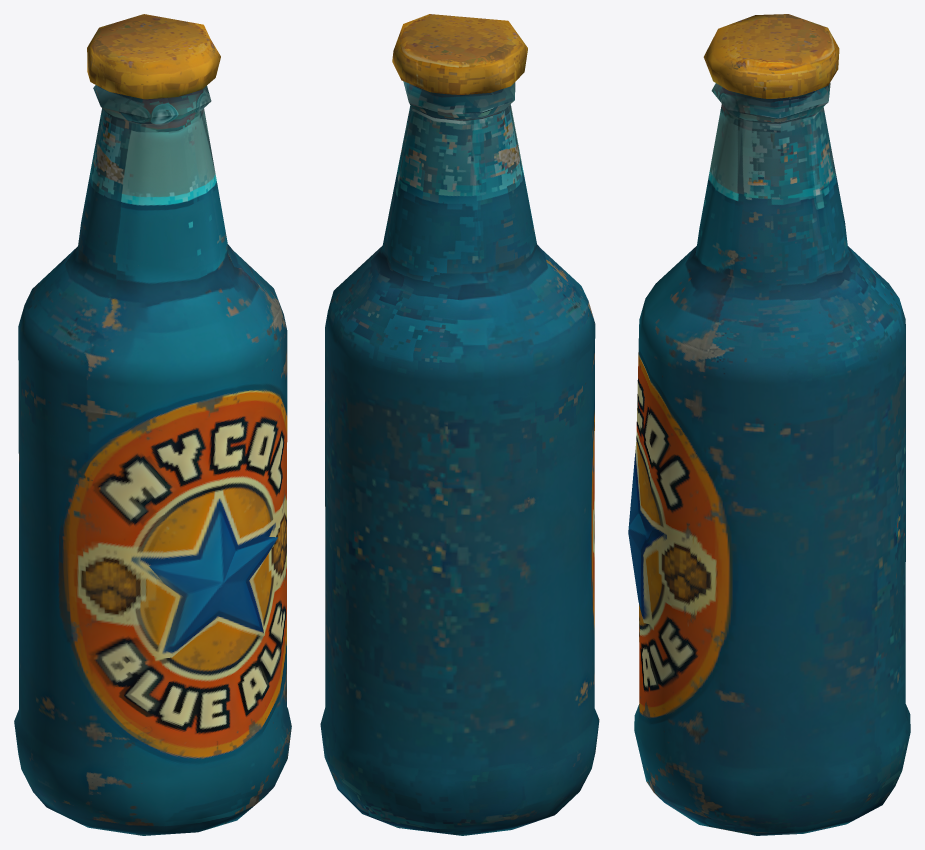
Rendered from bottle.glb.
3 views of the same model, side by side, from view 1: azimuth 30°, elevation 25°; view 2: azimuth 150°, elevation 25°; view 3: azimuth 270°, elevation 25° (orthographic).
Parts seen in each view (by area): view 1: tripo_node_9ed61c46-708d-489b-a52f-a5d73704679f; view 2: tripo_node_9ed61c46-708d-489b-a52f-a5d73704679f; view 3: tripo_node_9ed61c46-708d-489b-a52f-a5d73704679f.
Part boxes in pixels (x1,y1,x2,y2): tripo_node_9ed61c46-708d-489b-a52f-a5d73704679f: [14, 14, 291, 835]; tripo_node_9ed61c46-708d-489b-a52f-a5d73704679f: [320, 14, 599, 835]; tripo_node_9ed61c46-708d-489b-a52f-a5d73704679f: [628, 14, 910, 835].
Size of the model in its own units: 0.3298 by 0.9806 by 0.3349.
Materials: 1 (1 with a texture image).
